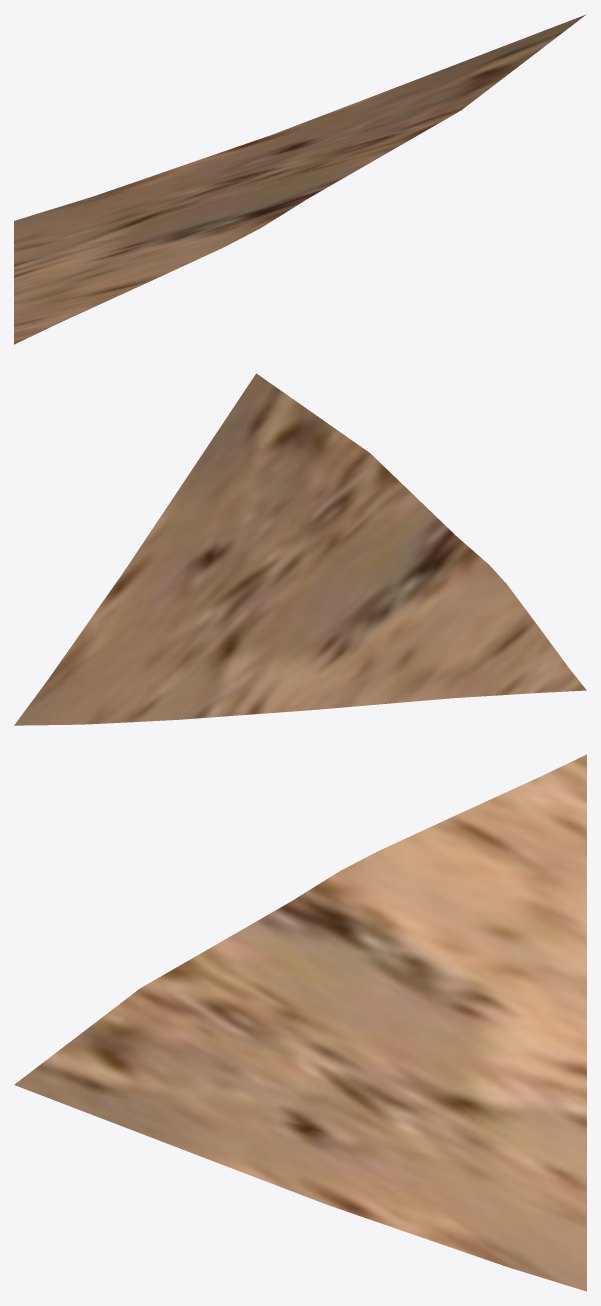
3 renders of one model, top to bottom at view 1: azimuth 90°, elevation 25°; view 2: azimuth 150°, elevation 25°; view 3: azimuth 270°, elevation 25°, orthographic. The views are drawn at different scales.
Bounding box in the file's own units: 0.8459 × 0.2467 × 0.6197.
1 material, 1 textured.
